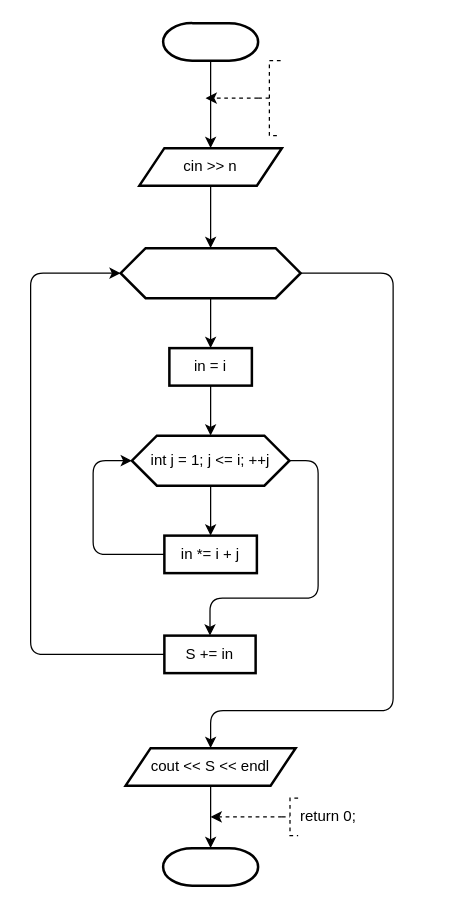
The diagram is 451 pixels wide and 908 high, and some of its shapes have lost their labels. The centre of each missing label's shape, as x and y in pixels:
"#include <iostream> using namespace std; int S, n, in;" goes at [269,97].
"int i = 1; i <= n; ++i" goes at [210,272].
"Конец" goes at [210,866].
"Начало" goes at [210,41].
